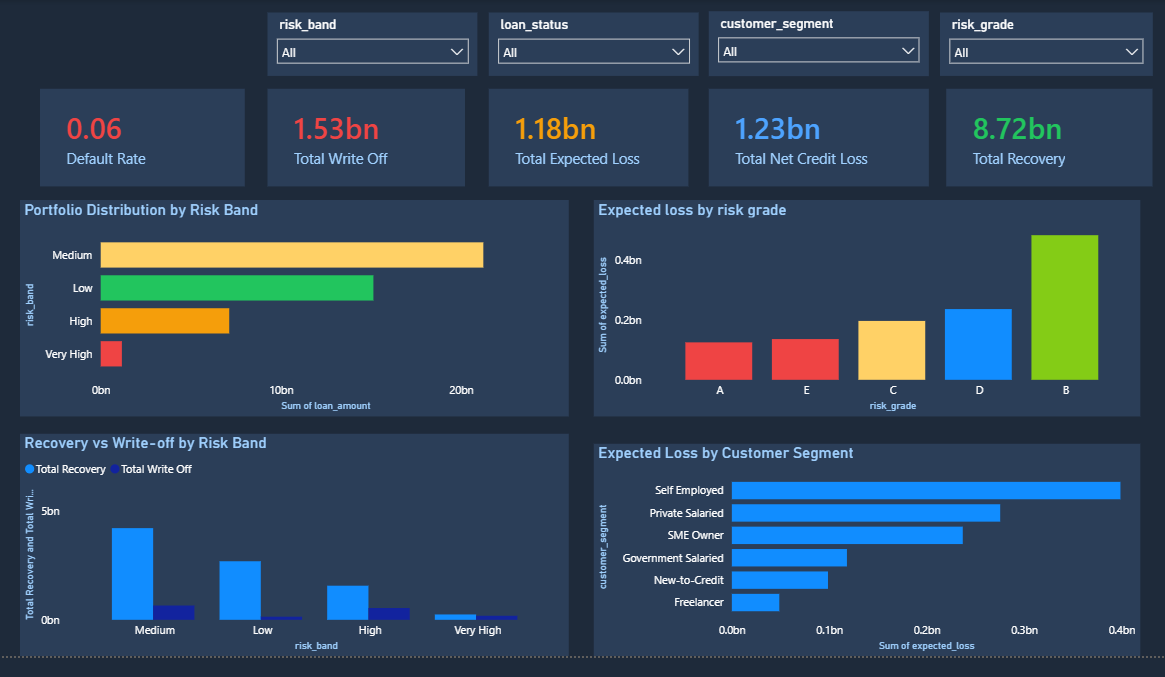

This screenshot's page, from the dashboard's own definition file:
{"tool":"powerbi","page":{"name":"Credit Risk Dashboard","canvas":[1280,720],"ordinal":1},"visuals":[{"type":"cardVisual","fields":{"Data":["powerbi_credit_risk_dataset.Default Rate"]},"box":[43.9,97.4,225,107],"z":0},{"type":"cardVisual","fields":{"Data":["powerbi_credit_risk_dataset.Total Expected Loss"]},"box":[536.5,97.4,219.6,107],"z":1000},{"type":"cardVisual","fields":{"Data":["powerbi_credit_risk_dataset.Total Write Off"]},"box":[293.7,97.4,216.8,107],"z":2000},{"type":"cardVisual","fields":{"Data":["powerbi_credit_risk_dataset.Total Recovery"]},"box":[1038.8,97.4,226.4,107],"z":3000},{"type":"cardVisual","fields":{"Data":["powerbi_credit_risk_dataset.Total Net Credit Loss"]},"box":[778,97.4,241.5,107],"z":4000},{"type":"columnChart","title":"Expected loss by risk grade","fields":{"Category":["powerbi_credit_risk_dataset.risk_grade"],"Y":["Sum(powerbi_credit_risk_dataset.expected_loss)"]},"box":[651.8,219.6,599.7,237.4],"z":5000},{"type":"barChart","title":"Portfolio Distribution by Risk Band","fields":{"Category":["powerbi_credit_risk_dataset.risk_band"],"Y":["Sum(powerbi_credit_risk_dataset.loan_amount)"]},"box":[22,219.6,602.4,237.4],"z":6000},{"type":"clusteredBarChart","title":"Expected Loss by Customer Segment","fields":{"Category":["powerbi_credit_risk_dataset.customer_segment"],"Y":["Sum(powerbi_credit_risk_dataset.expected_loss)"]},"box":[651.8,487.1,599.7,233.3],"z":7000},{"type":"clusteredColumnChart","title":"Recovery vs Write-off by Risk Band","fields":{"Category":["powerbi_credit_risk_dataset.risk_band"],"Y":["powerbi_credit_risk_dataset.Total Recovery","powerbi_credit_risk_dataset.Total Write Off"]},"box":[22,476.2,602.4,244.3],"z":8000},{"type":"slicer","fields":{"Values":["powerbi_credit_risk_dataset.risk_band"]},"box":[293.7,13.7,230.5,70],"z":9000},{"type":"slicer","fields":{"Values":["powerbi_credit_risk_dataset.customer_segment"]},"box":[778,12.3,241.5,71.4],"z":10000},{"type":"slicer","fields":{"Values":["powerbi_credit_risk_dataset.loan_status"]},"box":[536.5,13.7,230.5,70],"z":11000},{"type":"slicer","fields":{"Values":["powerbi_credit_risk_dataset.risk_grade"]},"box":[1031.9,13.7,233.3,70],"z":12000}]}

Visuals, with their boxes on the page's 1280x720 design canvas (x1, y1, x2, y2). These are canvas units, not pixel positions in the 1165x677 screenshot, which may show the page scaled, cropped or inside an application window:
cardVisual - powerbi_credit_risk_dataset.Default Rate: crop(44, 97, 269, 204)
cardVisual - powerbi_credit_risk_dataset.Total Expected Loss: crop(536, 97, 756, 204)
cardVisual - powerbi_credit_risk_dataset.Total Write Off: crop(294, 97, 510, 204)
cardVisual - powerbi_credit_risk_dataset.Total Recovery: crop(1039, 97, 1265, 204)
cardVisual - powerbi_credit_risk_dataset.Total Net Credit Loss: crop(778, 97, 1020, 204)
"Expected loss by risk grade" columnChart: crop(652, 220, 1252, 457)
"Portfolio Distribution by Risk Band" barChart: crop(22, 220, 624, 457)
"Expected Loss by Customer Segment" clusteredBarChart: crop(652, 487, 1252, 720)
"Recovery vs Write-off by Risk Band" clusteredColumnChart: crop(22, 476, 624, 720)
slicer - powerbi_credit_risk_dataset.risk_band: crop(294, 14, 524, 84)
slicer - powerbi_credit_risk_dataset.customer_segment: crop(778, 12, 1020, 84)
slicer - powerbi_credit_risk_dataset.loan_status: crop(536, 14, 767, 84)
slicer - powerbi_credit_risk_dataset.risk_grade: crop(1032, 14, 1265, 84)
